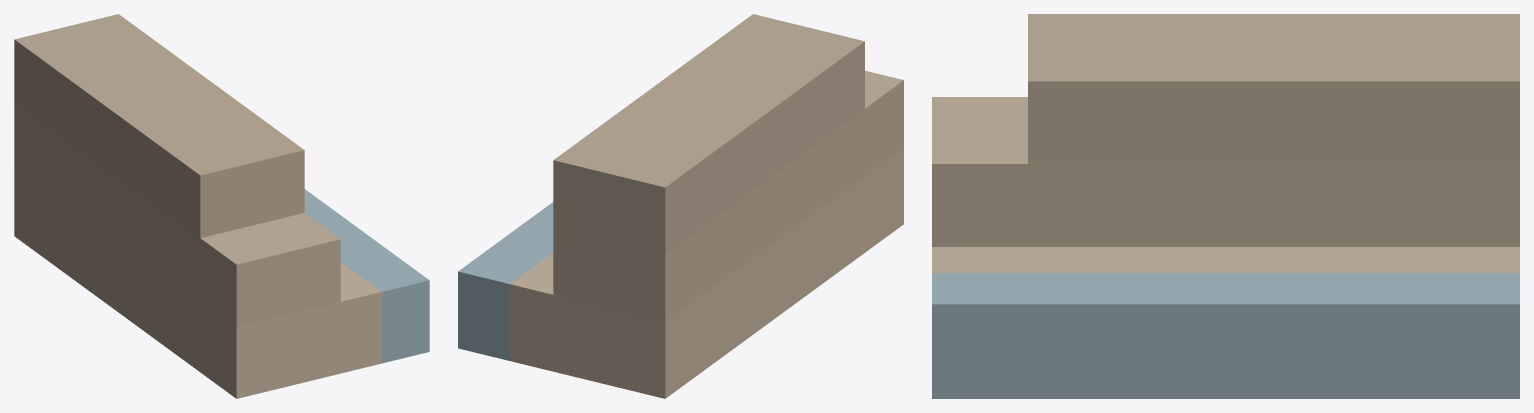
Rendered from massing.glb.
3 views of the same model, side by side, from view 1: azimuth 30°, elevation 25°; view 2: azimuth 150°, elevation 25°; view 3: azimuth 270°, elevation 25° (orthographic). The views are drawn at different scales.
Parts seen in each view (by area): view 1: main/floor3/0, main/floor1/0, main/floor2/0, wing/floor1/0; view 2: main/floor3/0, main/floor1/0, main/floor2/0, wing/floor1/0; view 3: wing/floor1/0, main/floor3/0, main/floor2/0, main/floor1/0.
Part boxes in pixels (left/top/right/bottom): main/floor3/0: left=14, top=14, right=304, bottom=237; main/floor1/0: left=14, top=165, right=381, bottom=398; main/floor2/0: left=14, top=102, right=340, bottom=327; wing/floor1/0: left=304, top=189, right=429, bottom=363; main/floor3/0: left=553, top=14, right=864, bottom=254; main/floor1/0: left=510, top=147, right=903, bottom=398; main/floor2/0: left=553, top=70, right=903, bottom=321; wing/floor1/0: left=458, top=202, right=553, bottom=360; wing/floor1/0: left=932, top=273, right=1519, bottom=398; main/floor3/0: left=1028, top=14, right=1519, bottom=163; main/floor2/0: left=932, top=97, right=1519, bottom=246; main/floor1/0: left=932, top=247, right=1519, bottom=272.
Bounding box in the file's own units: 9.02 × 8.8 × 18.
